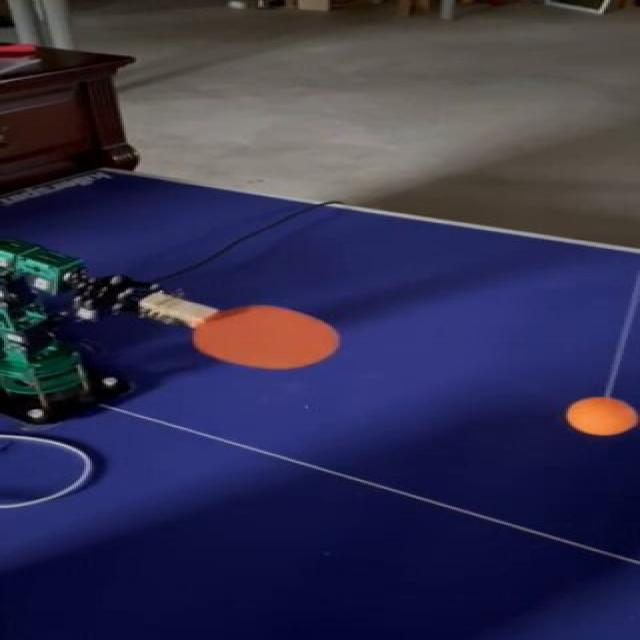ping-pong-ball: (570, 397, 636, 435)
